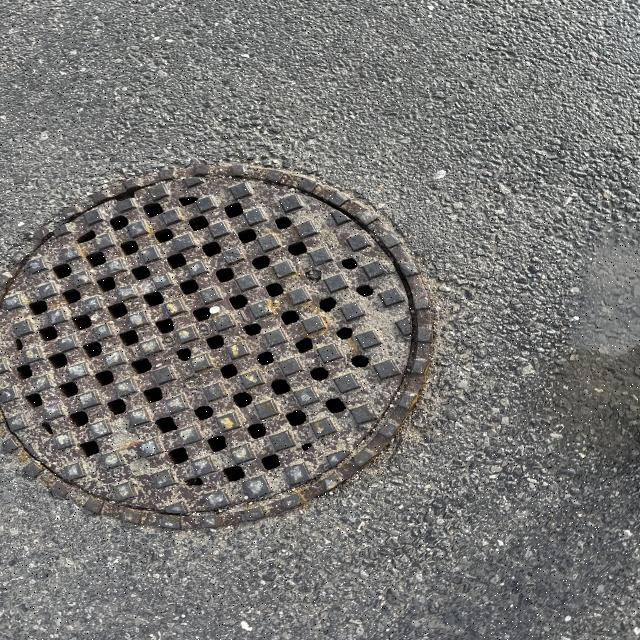Manhole: (4, 157, 438, 534)
